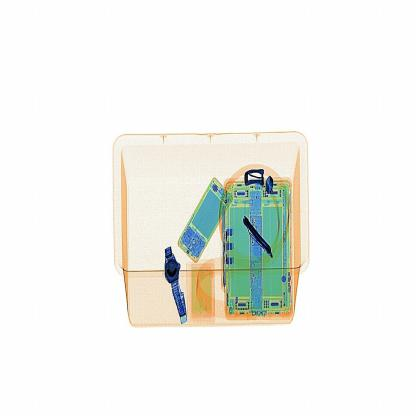knife: (243, 215, 275, 257)
